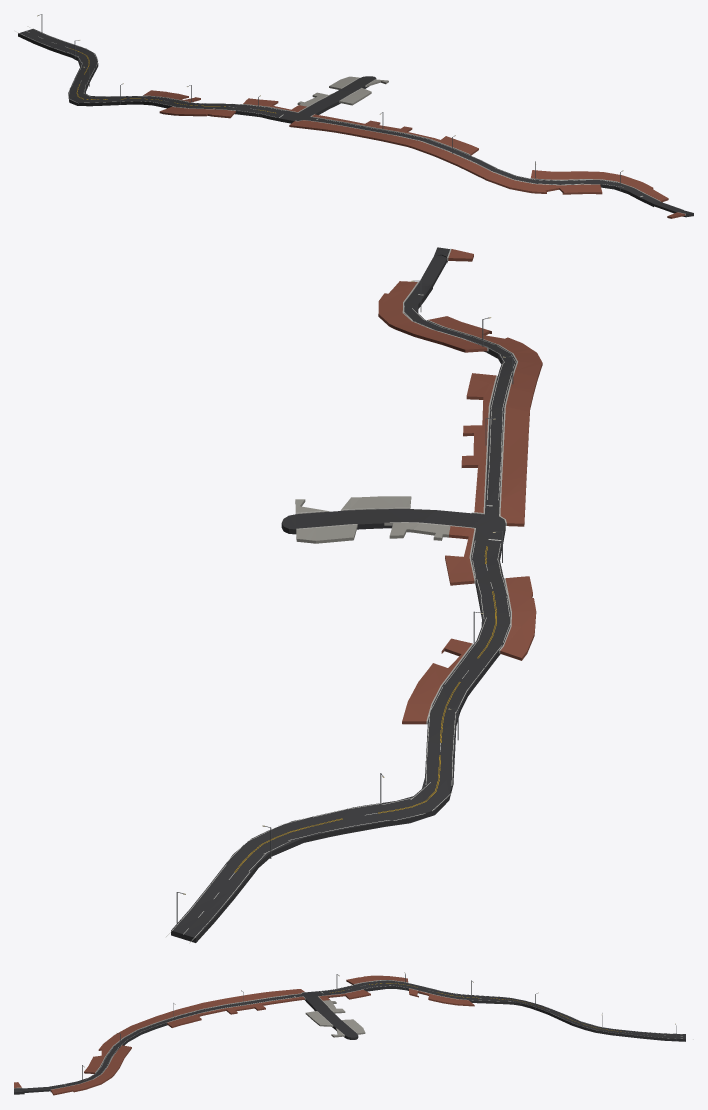
3 renders of one model, top to bottom at view 1: azimuth 30°, elevation 25°; view 2: azimuth 150°, elevation 25°; view 3: azimuth 270°, elevation 25°, orthographic. The views are drawn at different scales.
Size of the model in its own units: 128 by 39.11 by 295.
